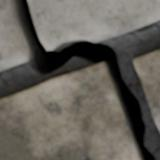brick: (0, 63, 140, 159), (134, 50, 159, 129)
broken_brick: (29, 0, 159, 48), (0, 0, 30, 72)
crack: (2, 0, 157, 159)
